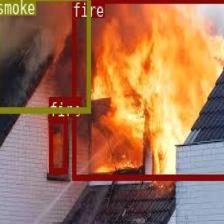fire: (72, 0, 224, 179), (48, 117, 66, 172)
smoke: (0, 0, 90, 111)
